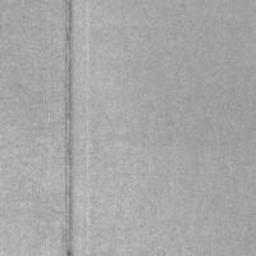Welding line: (64, 0, 74, 256)
